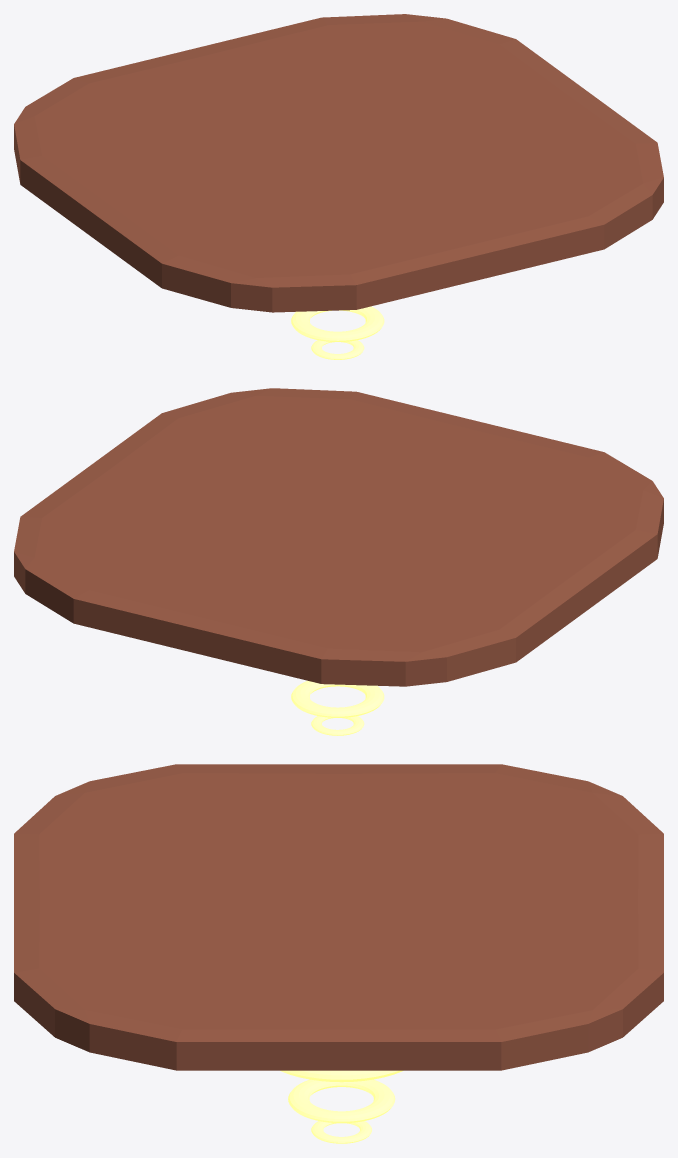
Rendered from tableA.glb.
3 renders of one model, top to bottom at view 1: azimuth 30°, elevation 25°; view 2: azimuth 150°, elevation 25°; view 3: azimuth 270°, elevation 25°, orthographic. The views are drawn at different scales.
Parts seen in each view (by area): view 1: Torus.002; view 2: Torus.002; view 3: Torus.002.
Part boxes in pixels (bbox=[...]): Torus.002: bbox=[14, 14, 663, 359]; Torus.002: bbox=[14, 388, 663, 735]; Torus.002: bbox=[14, 764, 663, 1143].
Size of the model in its own units: 7.48 by 2.9 by 7.39.
